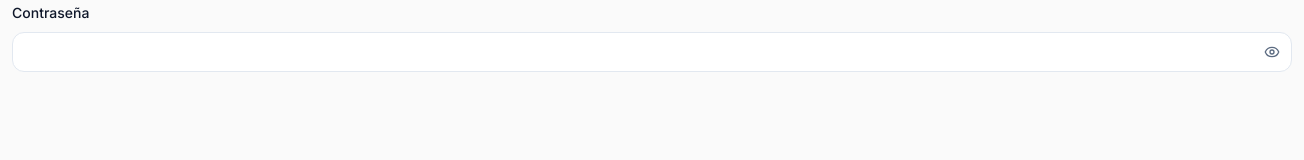
Test: PasswordInput › vuelve a type="password" al hacer click de nuevo
The image size is (1304, 160).
What coordinates should you click on to do the following:
click the button named "Mostrar contraseña"
I would click on:
 (1272, 52)
Its box is 1264,44 -> 1280,60.
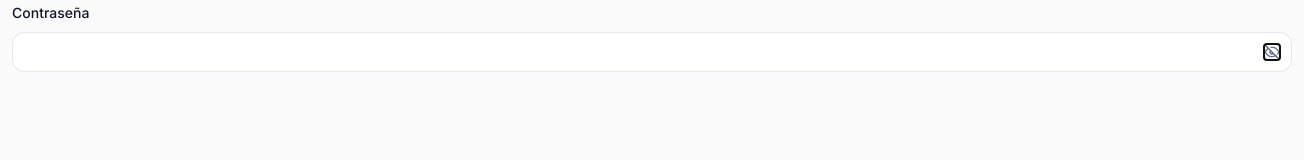
Expected: the button named "Ocultar contraseña" is shown
What coordinates should you click on to do the following:
click the button named "Ocultar contraseña"
I would click on:
 (1272, 52)
Its box is 1264,44 -> 1280,60.
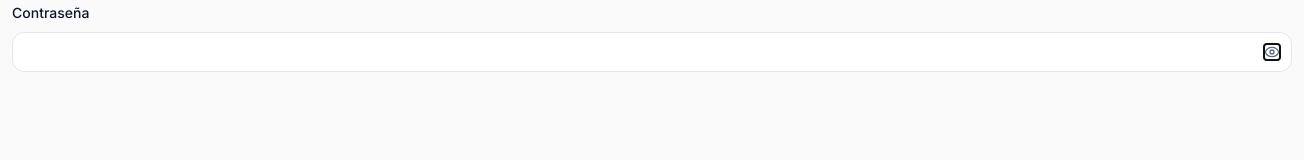
Expected: the button named "Mostrar contraseña" is shown, 1264,44 -> 1280,60
